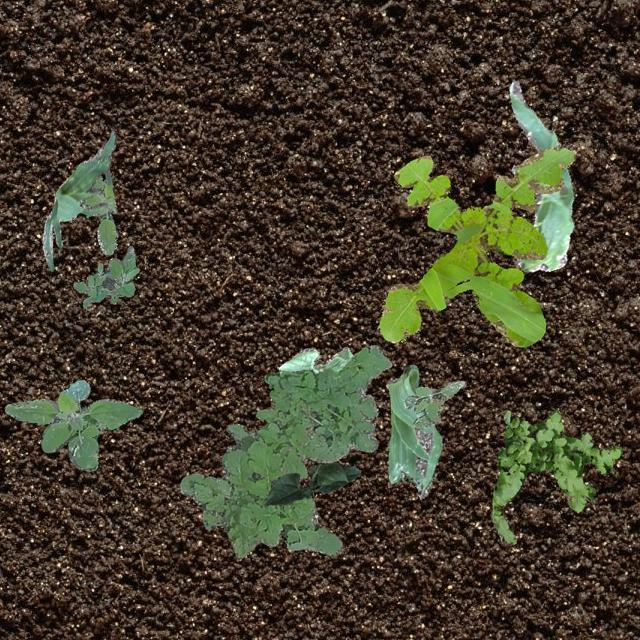crop: (508, 80, 572, 272), (41, 130, 116, 270), (386, 364, 442, 498), (262, 462, 360, 506), (278, 346, 352, 374)
weed: (178, 343, 390, 558), (377, 146, 576, 346), (490, 408, 620, 544), (2, 378, 142, 471), (73, 244, 138, 306), (402, 380, 464, 430), (80, 176, 116, 253)
